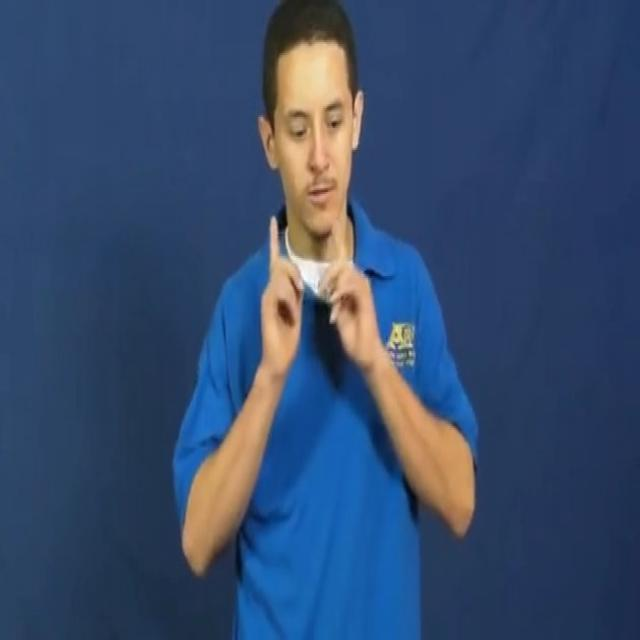order: (254, 190, 382, 394)
